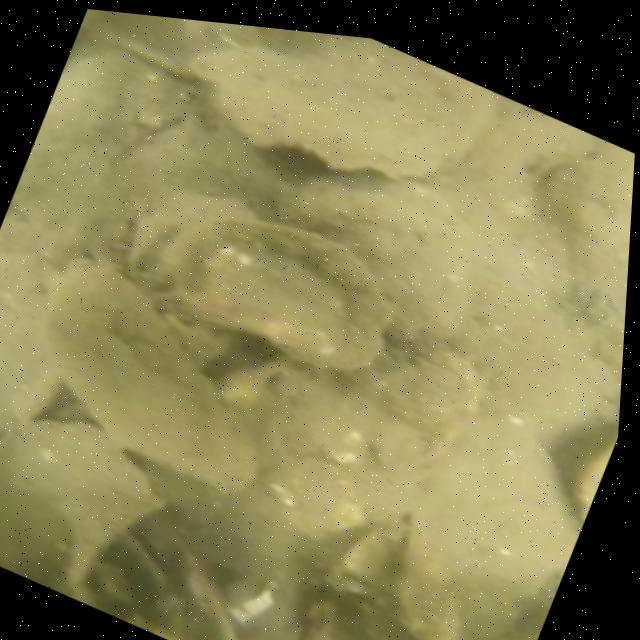Oyster-Indeterminate: (45, 260, 252, 488), (189, 35, 495, 178), (386, 415, 574, 640), (157, 219, 396, 369), (274, 173, 477, 345)
